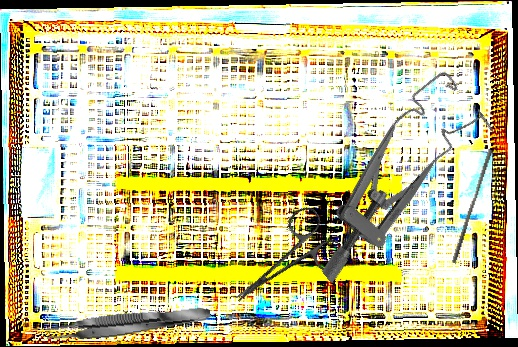Iris Scissors: (215, 201, 350, 326)
Pusher: (451, 148, 494, 265)
Speculum: (270, 66, 508, 287)
Tissue Forceps: (45, 302, 212, 346)
